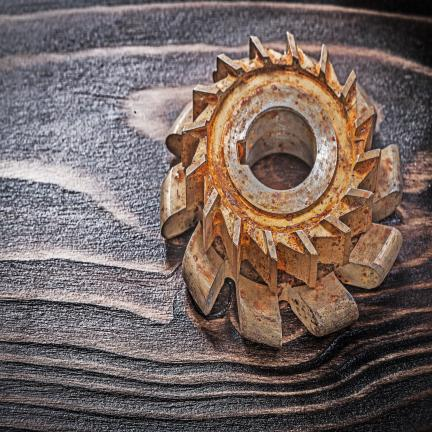karat: (196, 58, 404, 321)
